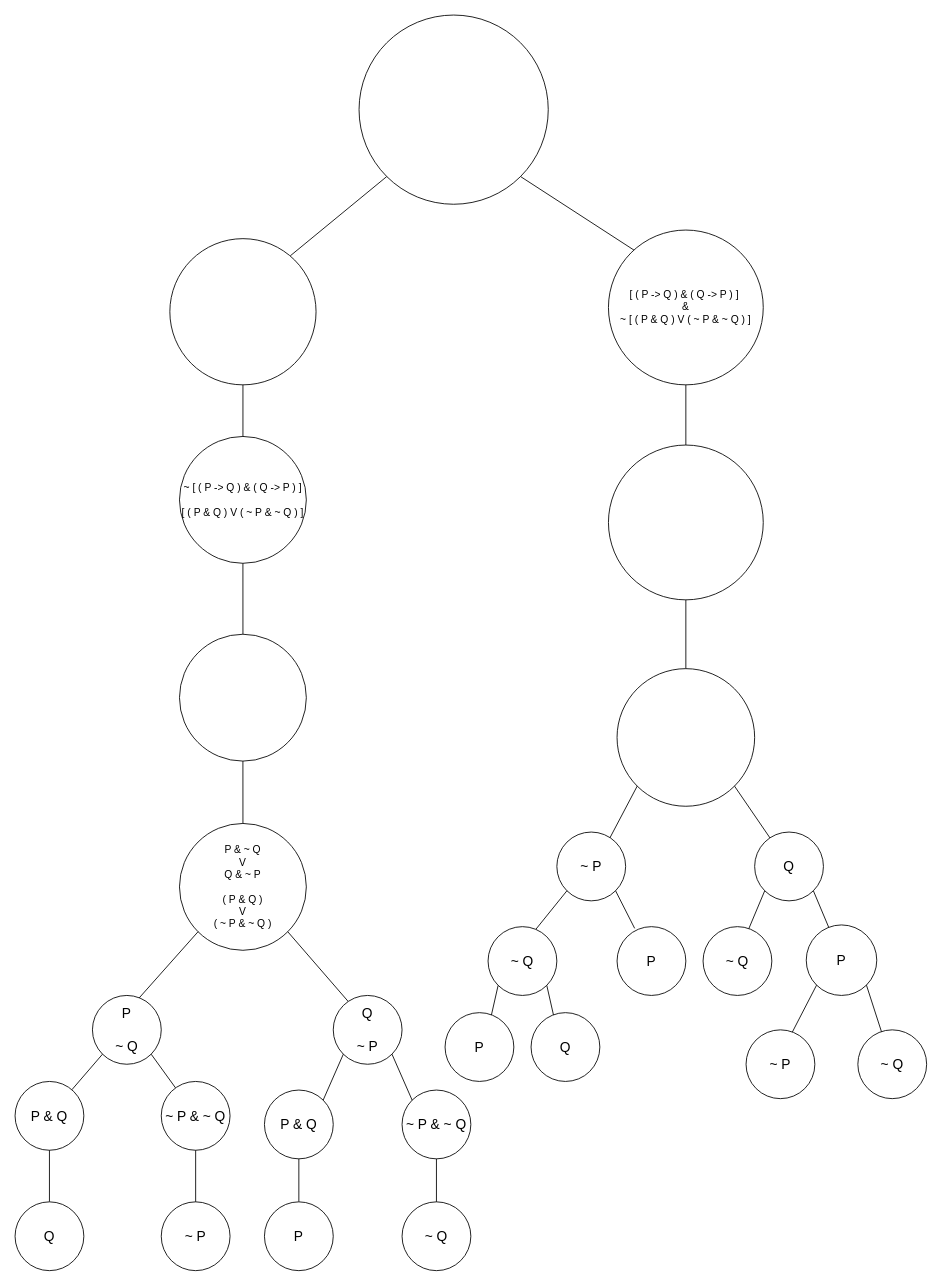
The diagram is 942 pixels wide and 1286 high, and some of its shapes have lost their labels. The box of each missing label's shape, as (x1, y1, x2, y2) in pixels:
~ ( P -> Q ) V ~ ( Q -> P ) ( P & Q ) V ( ~ P & ~ Q ): (179, 633, 306, 761)
~ [ ( P -> Q ) & ( Q -> P ) ] & [ ( P & Q ) V ( ~ P & ~ Q ) ]: (169, 238, 316, 385)
~ P V Q ~ Q V P ~ ( P & Q ) & ~ ( ~ P & ~ Q ): (608, 444, 763, 600)
~ P V Q ~ Q V P ~ P V ~ Q P V Q: (616, 668, 755, 806)
~ { [ ( P -> Q ) & ( Q -> P ) ] <-> [ ( P & Q ) V ( ~ P & ~ Q ) ] }: (358, 14, 548, 204)
